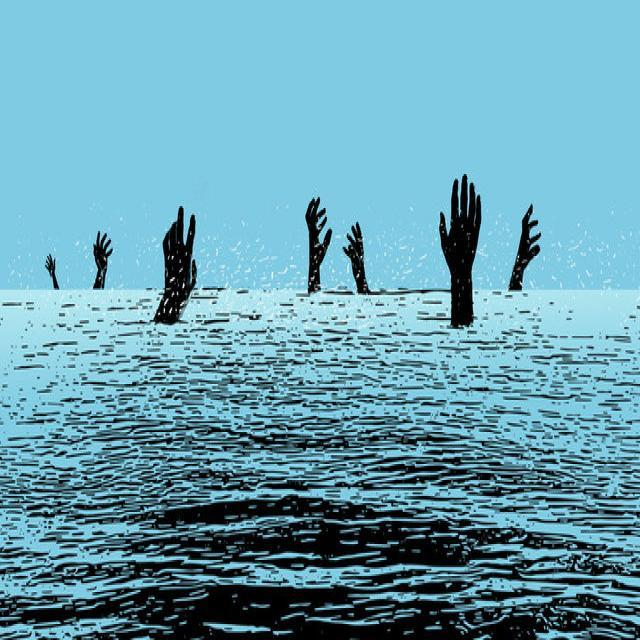Out of Water: (43, 188, 553, 360)
